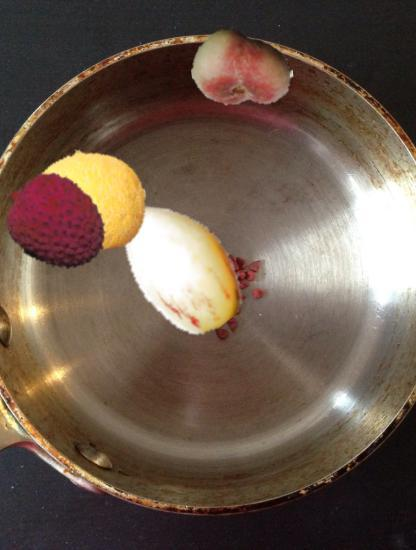Cantaloupe: (29, 142, 147, 260)
Lychee: (0, 165, 111, 276)
Peach: (191, 16, 293, 118)
Pepino: (105, 191, 254, 340)
